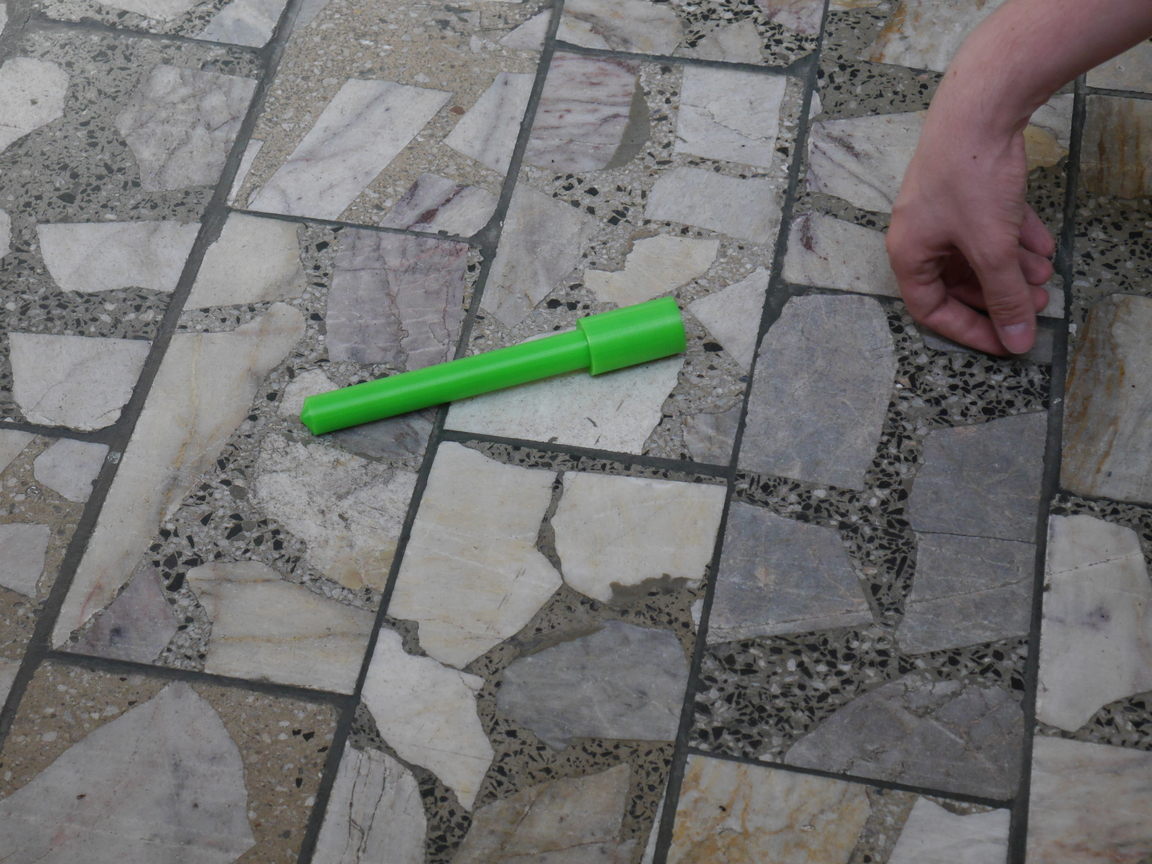cargo_g: (298, 296, 688, 436)
